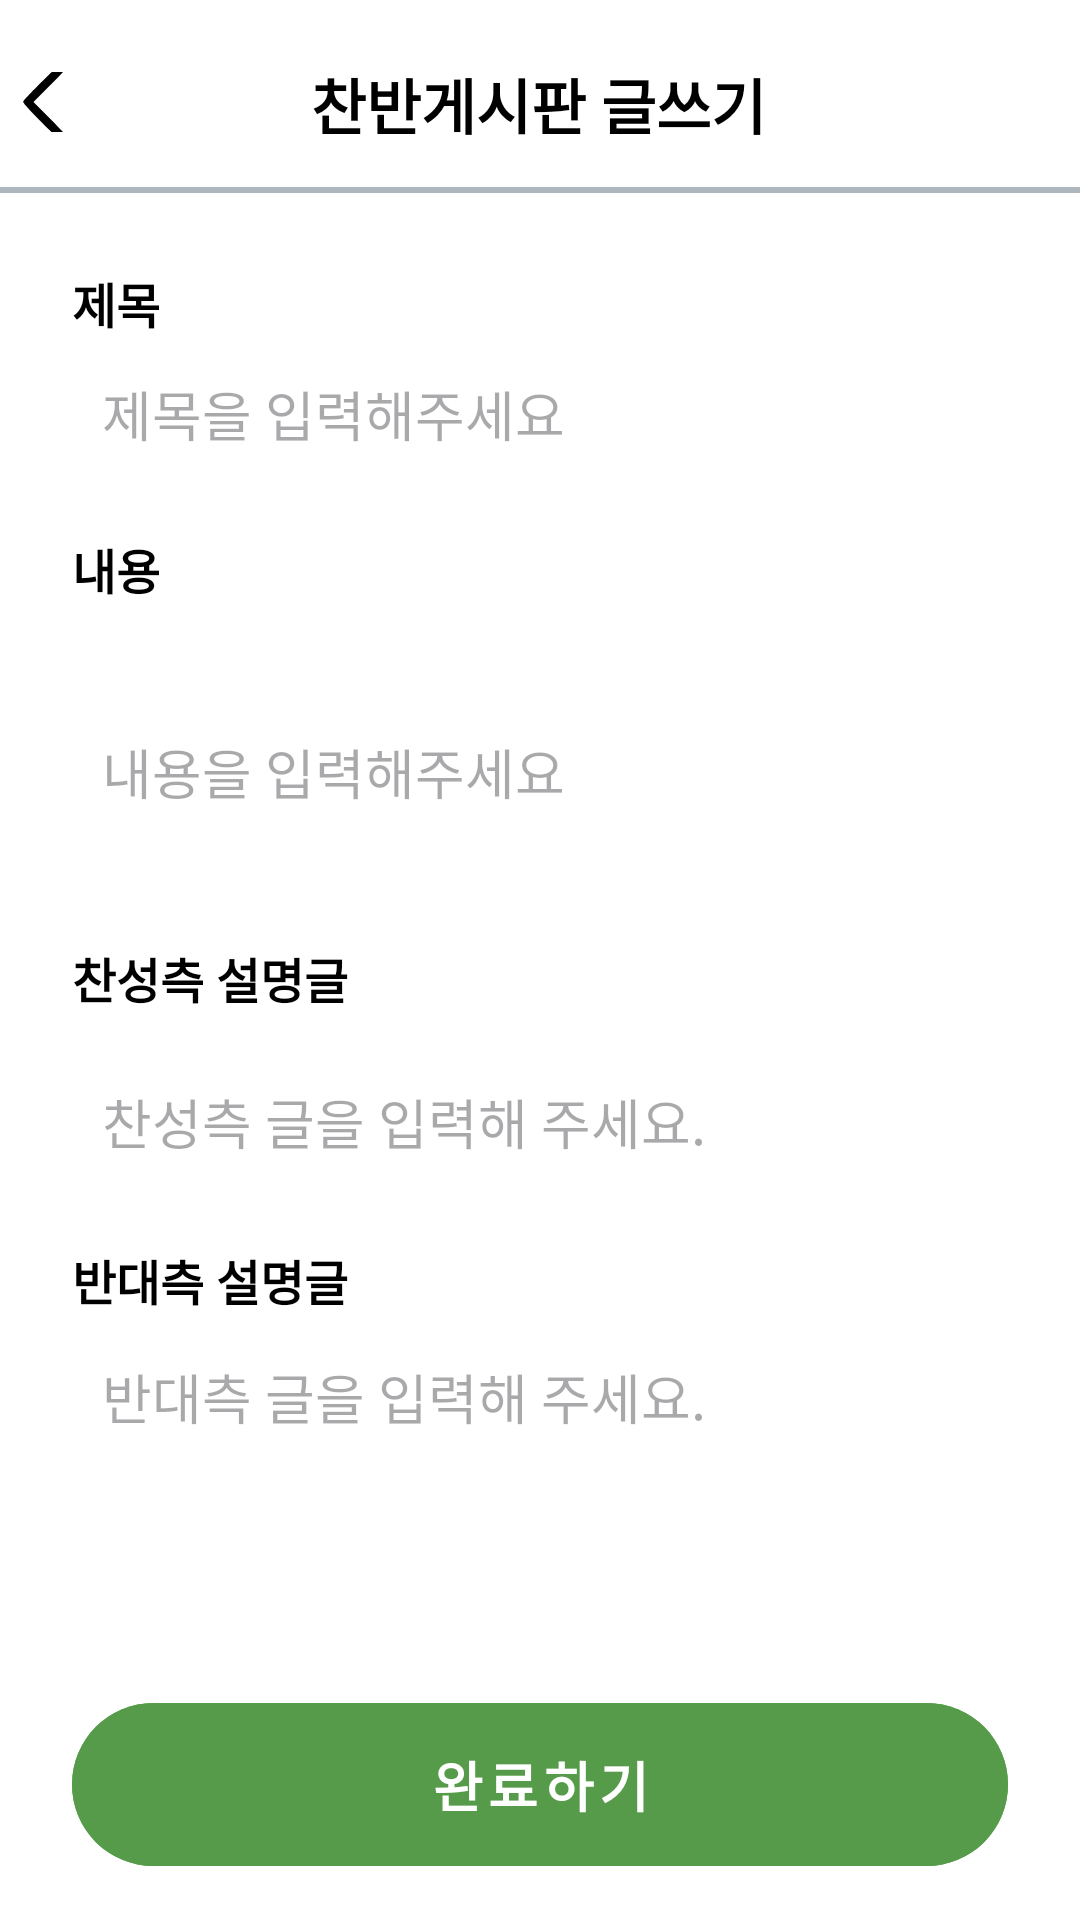

Named icons in this screenshot (1080×1920) and their centers, [x,y]:
back: [43,102]
